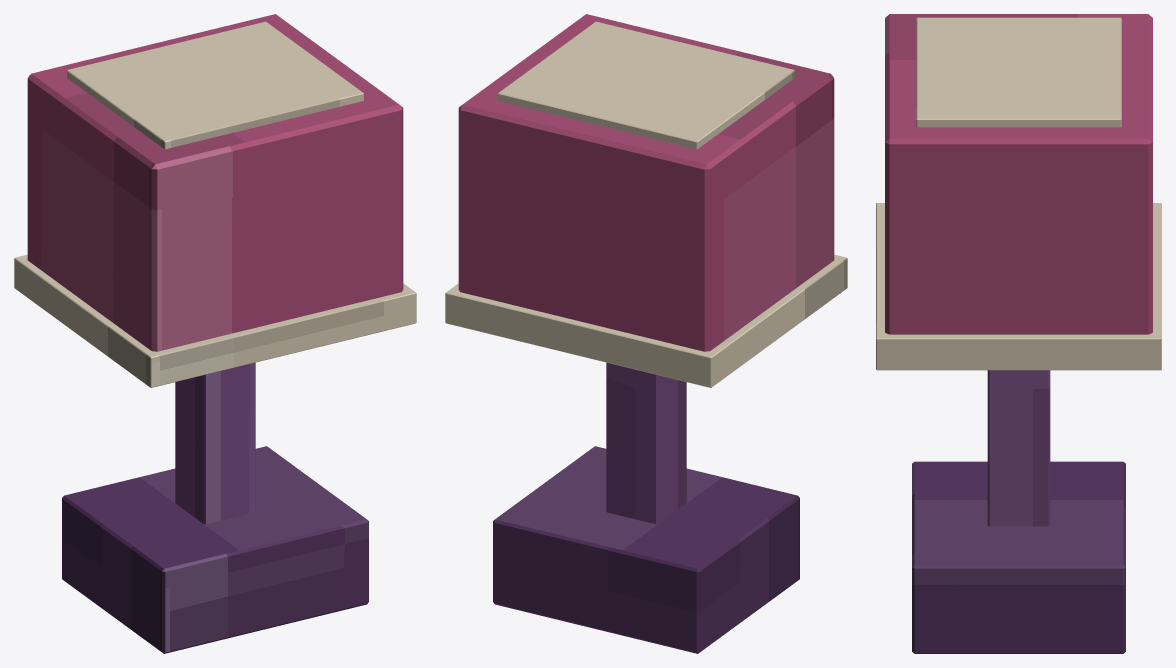
File: bedside_lamp_violet.glb
3 views of the same model, side by side, from view 1: azimuth 30°, elevation 25°; view 2: azimuth 150°, elevation 25°; view 3: azimuth 270°, elevation 25° (orthographic). The views are drawn at different scales.
Parts seen in each view (by area): view 1: LampShade, LampBase, ShadeBandTop, ShadeBandBottom, LampStem; view 2: LampShade, LampBase, ShadeBandTop, ShadeBandBottom, LampStem; view 3: LampShade, LampBase, ShadeBandTop, ShadeBandBottom, LampStem.
Boxes of the visible parts, bbox=[...] form: LampShade: bbox=[27, 14, 403, 351]; LampBase: bbox=[62, 446, 368, 653]; ShadeBandTop: bbox=[67, 21, 363, 149]; ShadeBandBottom: bbox=[14, 254, 416, 387]; LampStem: bbox=[175, 362, 255, 524]; LampShade: bbox=[458, 14, 834, 351]; LampBase: bbox=[493, 446, 799, 653]; ShadeBandTop: bbox=[498, 21, 794, 149]; ShadeBandBottom: bbox=[445, 254, 847, 387]; LampStem: bbox=[606, 362, 686, 524]; LampShade: bbox=[885, 14, 1152, 334]; LampBase: bbox=[912, 461, 1125, 653]; ShadeBandTop: bbox=[916, 17, 1121, 127]; ShadeBandBottom: bbox=[876, 203, 1161, 370]; LampStem: bbox=[987, 370, 1050, 526].
Size of the model in its own units: 0.36 by 0.66 by 0.32.
1 material, 1 textured.
